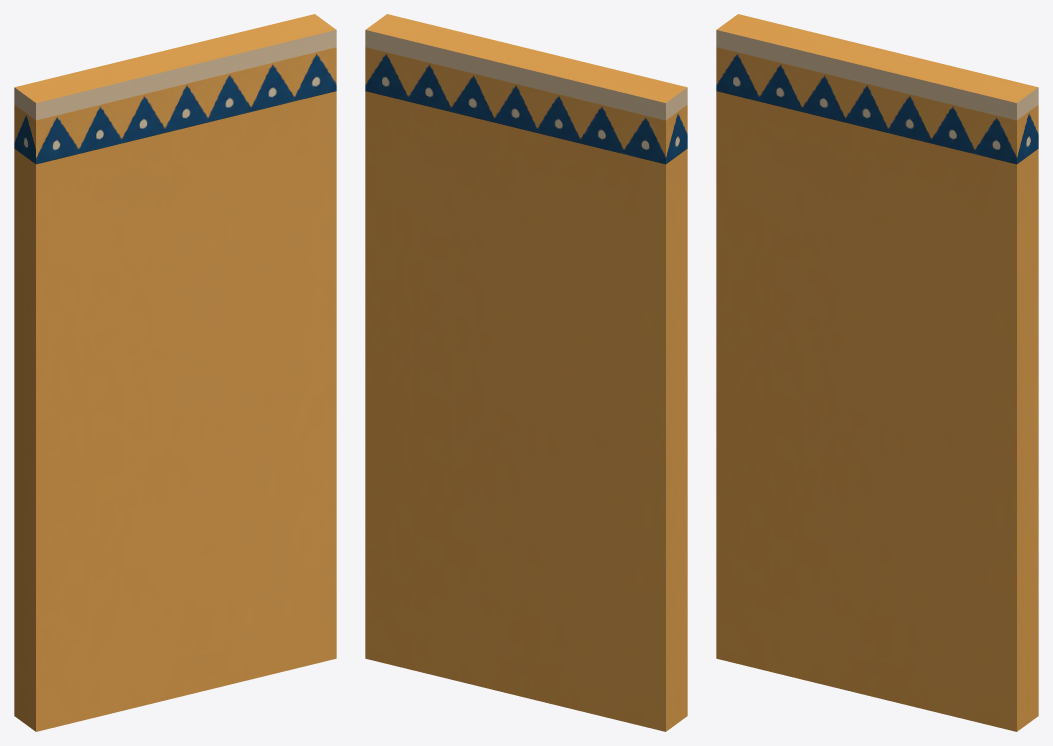
File: rc_wa_wall_4x8.glb
3 renders of one model, left to right at view 1: azimuth 30°, elevation 25°; view 2: azimuth 150°, elevation 25°; view 3: azimuth 330°, elevation 25°, orthographic.
Parts seen in each view (by area): view 1: SM_RC_WA_Wall_4x8; view 2: SM_RC_WA_Wall_4x8; view 3: SM_RC_WA_Wall_4x8.
Part boxes in pixels (x1,y1,x2,y2): SM_RC_WA_Wall_4x8: [14, 14, 336, 731]; SM_RC_WA_Wall_4x8: [365, 14, 687, 731]; SM_RC_WA_Wall_4x8: [716, 14, 1038, 731].
Size of the model in its own units: 4 by 8 by 0.5.
Materials: 1 (1 with a texture image).
